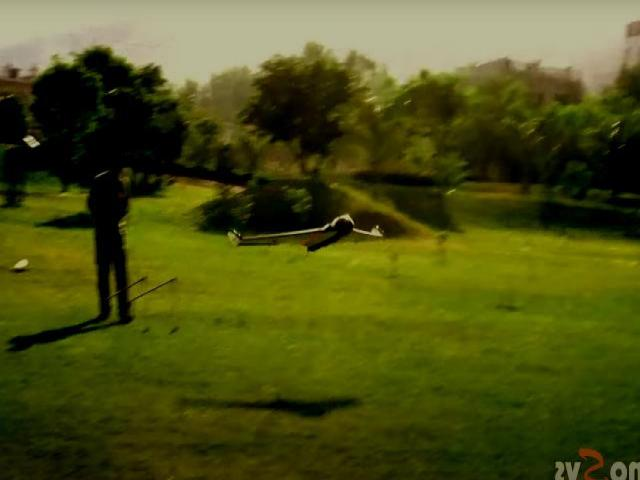iha: (223, 203, 387, 254)
